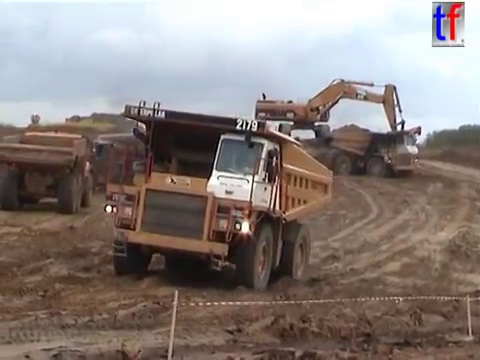excavator: (250, 76, 409, 152), (368, 124, 423, 158)
truck: (91, 98, 336, 293), (1, 129, 95, 216), (96, 130, 203, 188), (321, 127, 420, 179)
